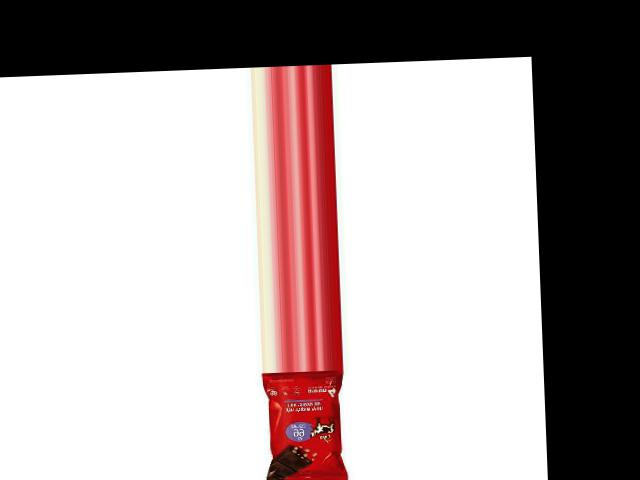chocolate: (261, 369, 344, 480)
